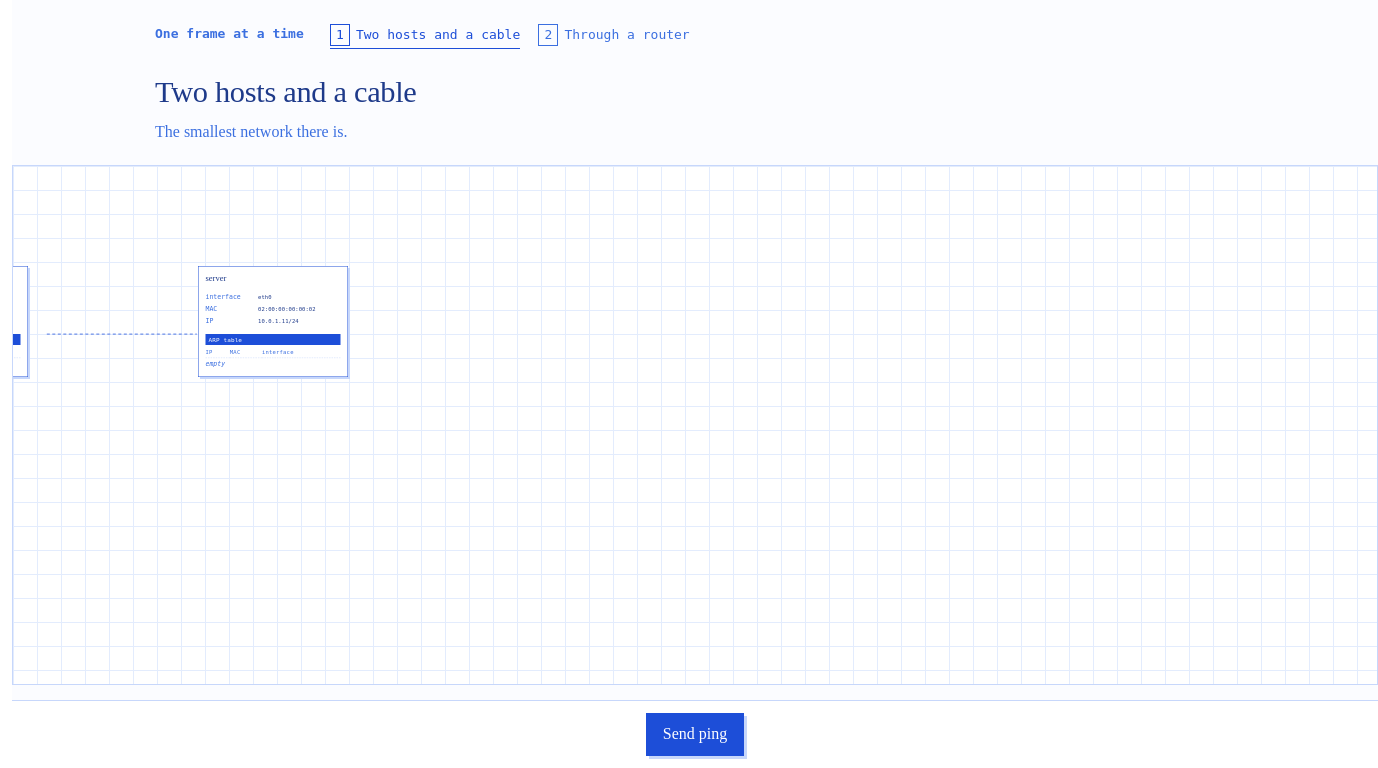
Test: lesson 1 › shows the frame in play with its decoded headers
The width and height of the screenshot is (1378, 768).
Click the button "Send ping" at {"x": 695, "y": 735}, box [646,713,744,756]
(page scrolled)
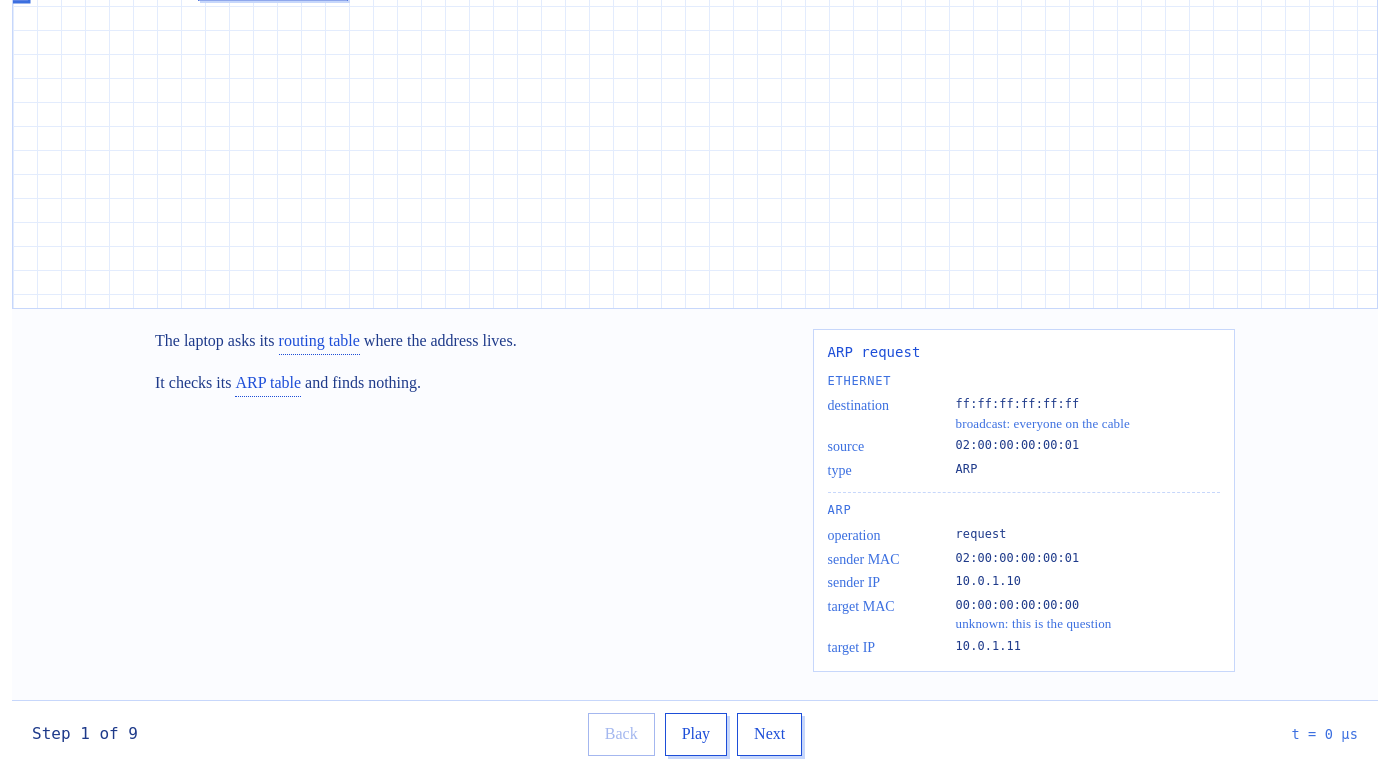
Check: the text "ARP request" is shown, box [828,344,920,360]
Check: the text "ff:ff:ff:ff:ff:ff" is shown, box [956,397,1079,411]
